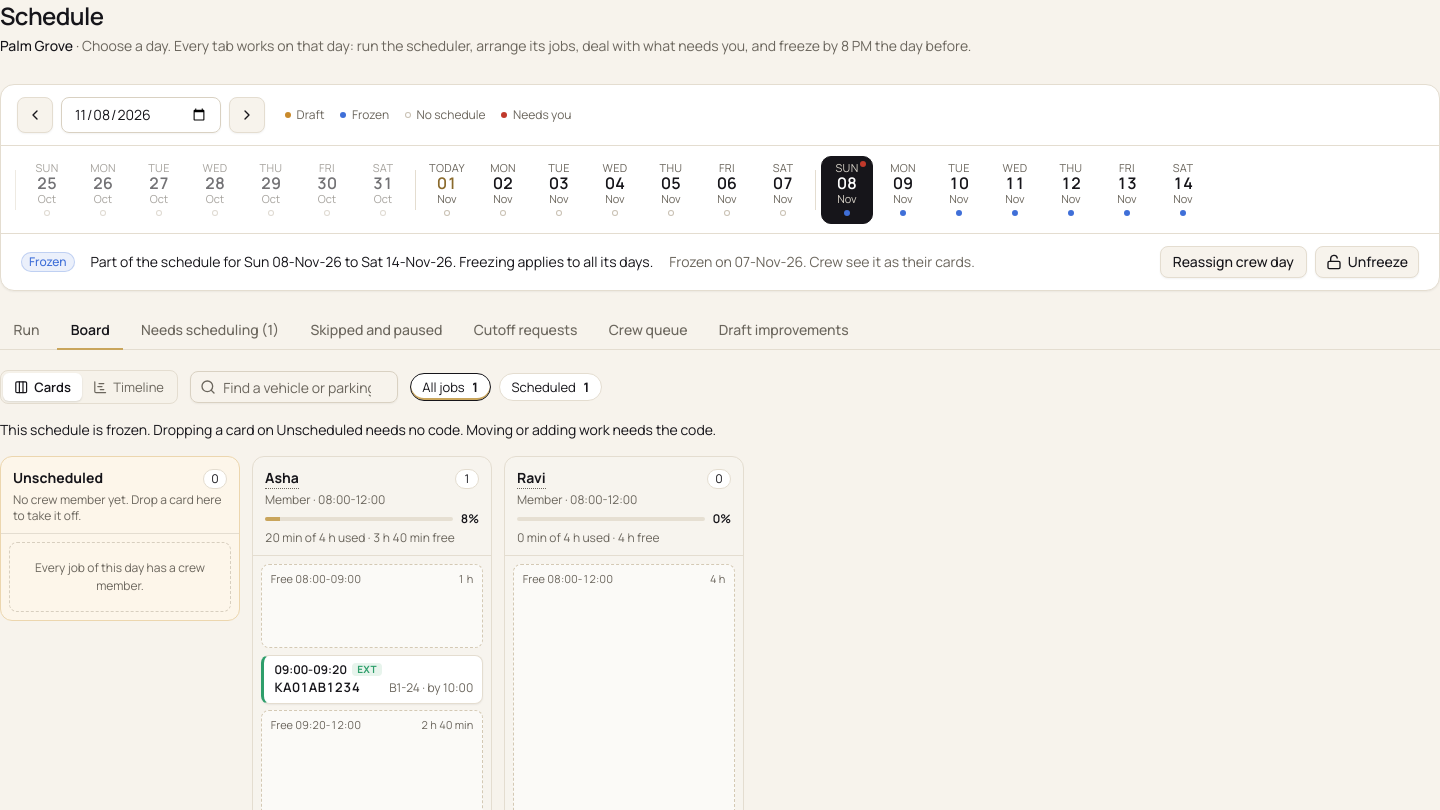
Test: the card board (ADM-SCH-33) › shows a frozen-schedule conflict plainly and offers the code prompt
Expected: the text "This schedule is frozen. Dropping a card on Unscheduled needs no code" is shown, [0,420,716,439]
Click the button "09:00-09:20 EXT KA01AB1234 B1-24 · by 10:00" at (372, 679), box [261,655,483,704]
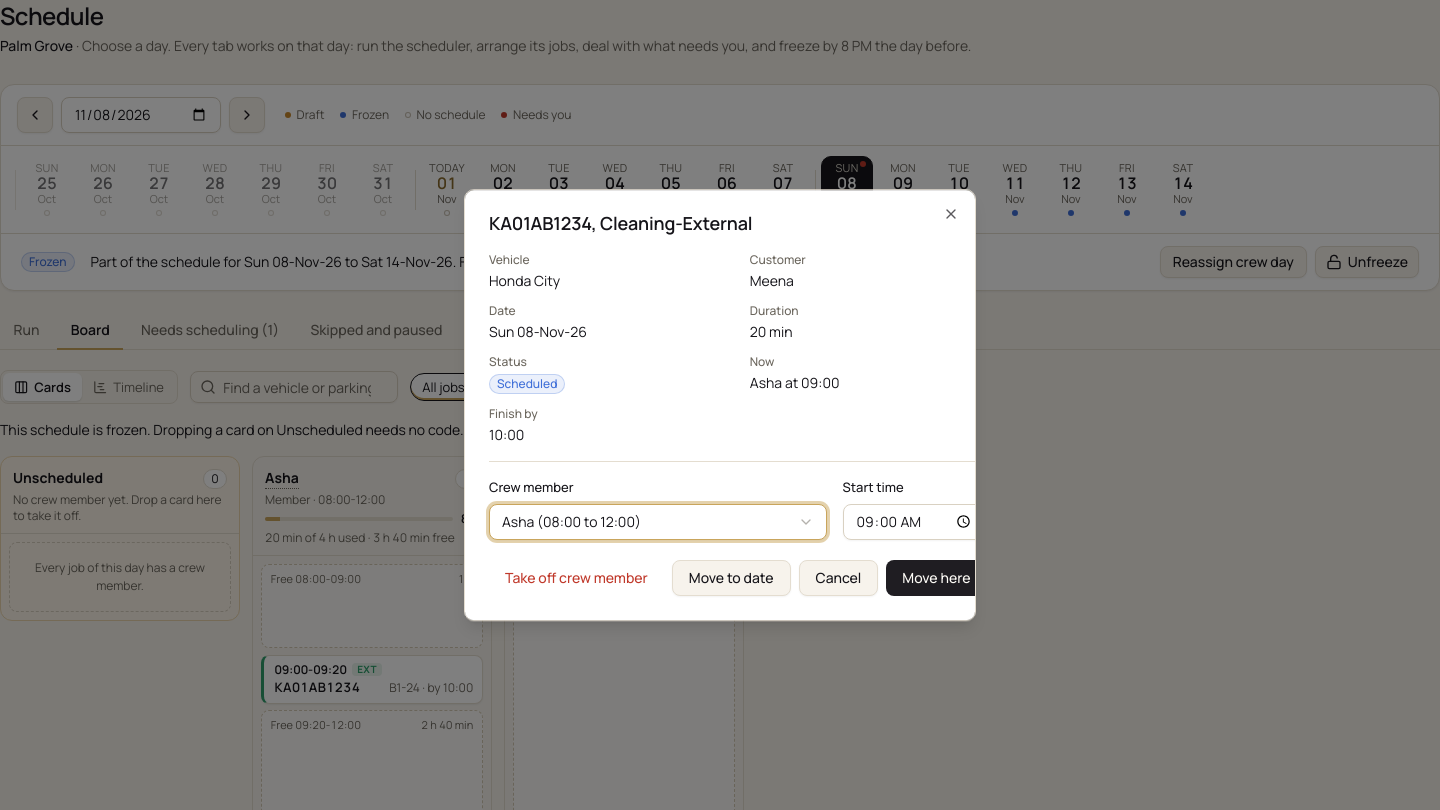
Click the button "Move here" at (936, 578), box [886,560,987,596]
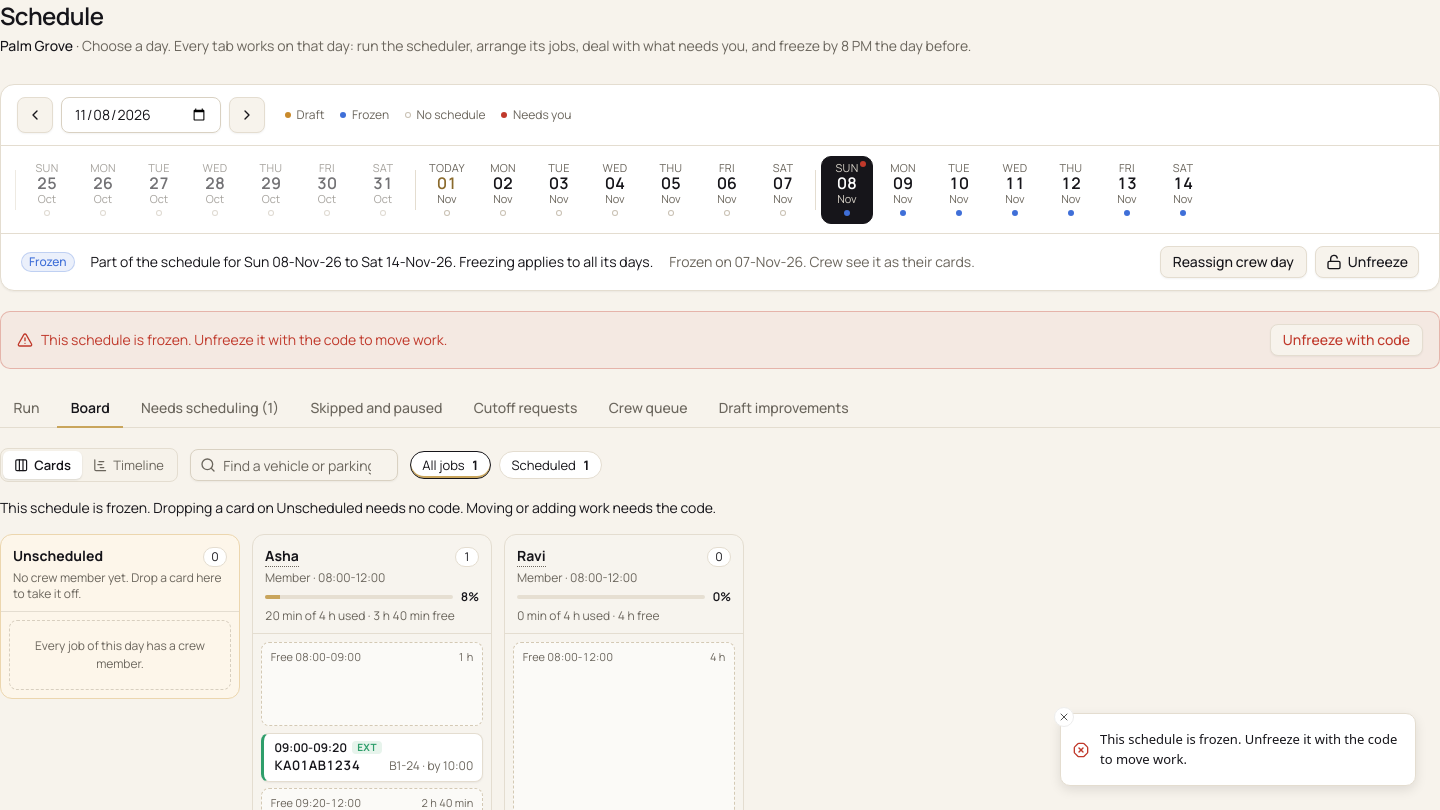
Now the message shows "This schedule is frozen. Unfreeze it with the code to move work.", box [41,330,447,349]
Click the button "Unfreeze with code" at (1346, 340), box [1270,324,1423,356]
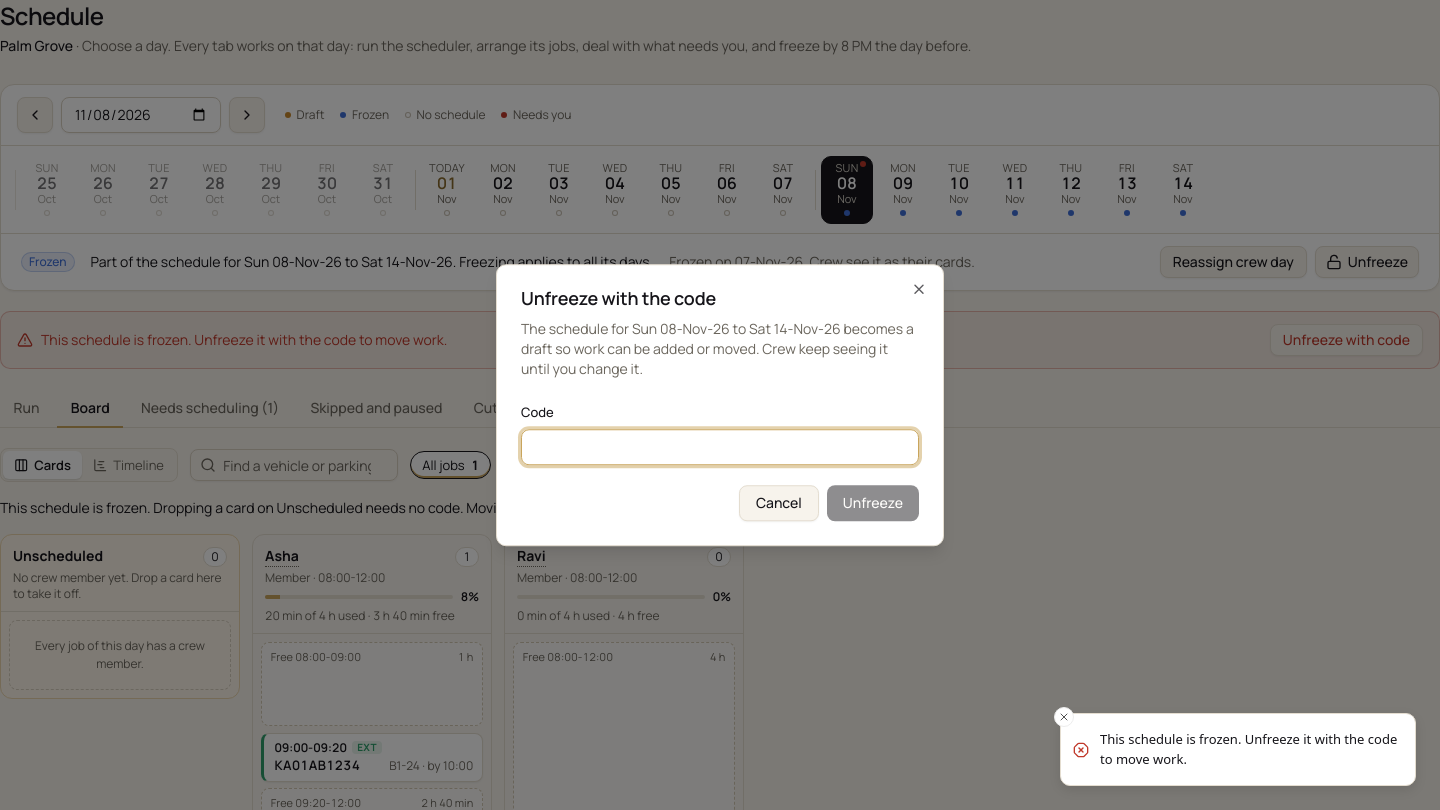
Now the dialog "Unfreeze with the code" is shown, box [496,264,944,546]
